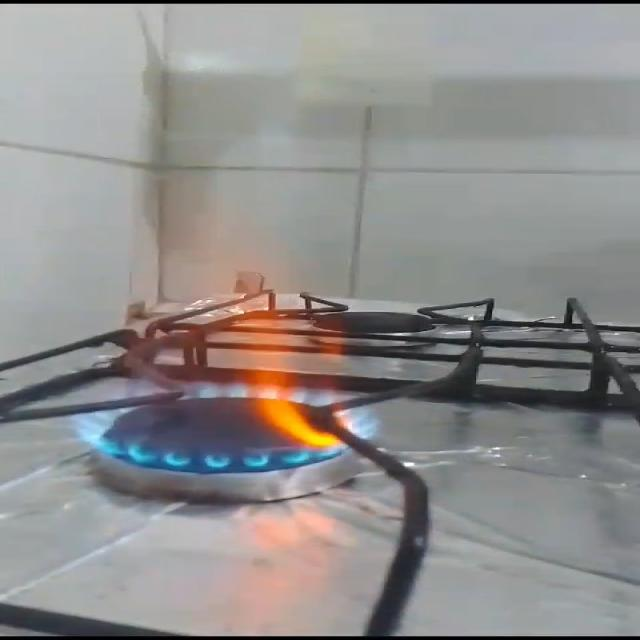fogo-ypXI: (76, 190, 380, 473)
